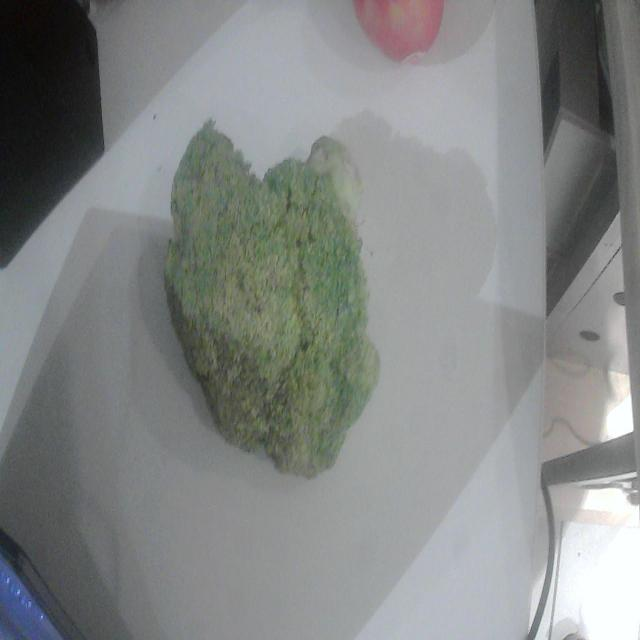Broccoli: (164, 121, 378, 476)
